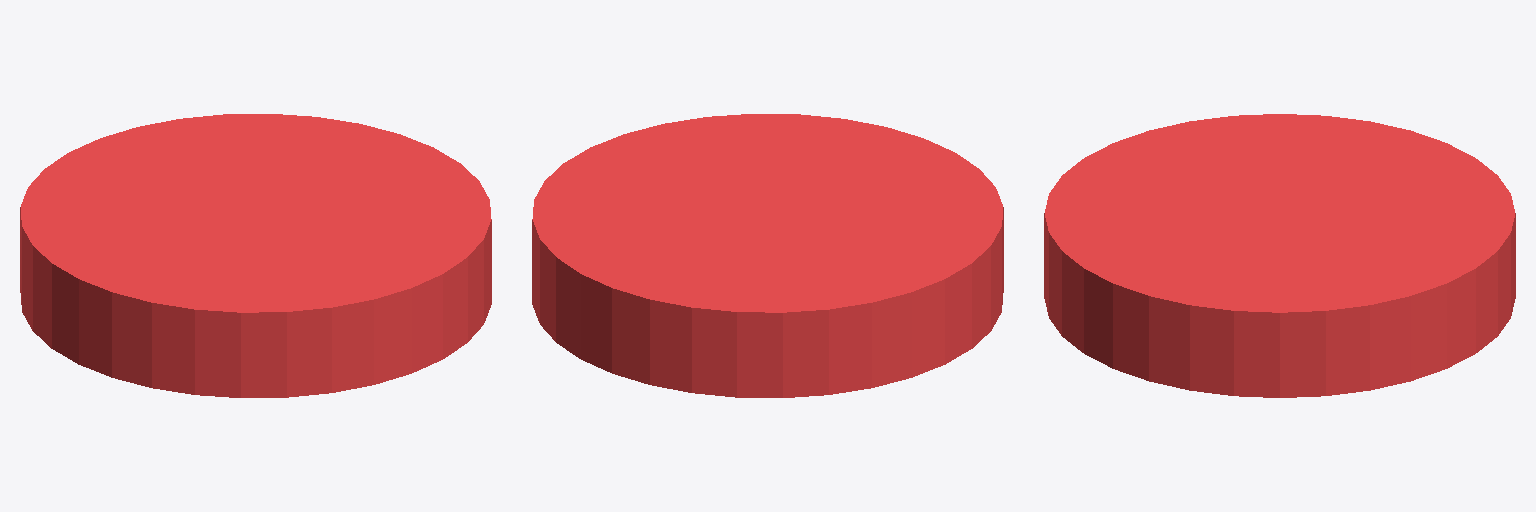
The robot description file, URDF, robot "small.urdf":
<?xml version="0.0" ?>
<robot name="small.urdf">
  <link name="baseLink">
    <contact>
      <lateral_friction value="0.5"/>
      <rolling_friction value="0.0001"/>
      <inertia_scaling value="3.0"/>
    </contact>
    <inertial>
      <origin rpy="0 0 0" xyz="0 0 0"/>
       <mass value=".3"/>
       <inertia ixx="1" ixy="0" ixz="0" iyy="1" iyz="0" izz="5"/>
    </inertial>
    <visual>
      <origin rpy="0 0 0" xyz="0 0 0"/>
      <geometry>
         <cylinder radius="0.025" length="0.01"/>
      </geometry>
      <material name="red">
        <color rgba="1 0.3412 0.3490 1"/>
      </material>
    </visual>
    <collision>
      <origin rpy="0 0 0" xyz="0 0 0"/>
      <geometry>
        <cylinder radius="0.025" length="0.01"/>
      </geometry>
    </collision>
  </link>
</robot>

--- Facts derived from the render (not from the file) ---
3 views of the same robot in one strip: view 1: azimuth 30°, elevation 25°; view 2: azimuth 150°, elevation 25°; view 3: azimuth 270°, elevation 25° (orthographic).
Model small.urdf with 1 links and 0 joints (none), rooted at baseLink, posed every joint at zero.
Visible links, largest first — view 1: baseLink; view 2: baseLink; view 3: baseLink.
Link boxes in pixels (bbox=[...]): baseLink: bbox=[20, 114, 491, 397]; baseLink: bbox=[532, 114, 1003, 397]; baseLink: bbox=[1044, 114, 1515, 397].
Size in the robot's own frame: 0.05 by 0.05 by 0.01 metres.
Geometry: primitives only (box / cylinder / sphere), no mesh files.